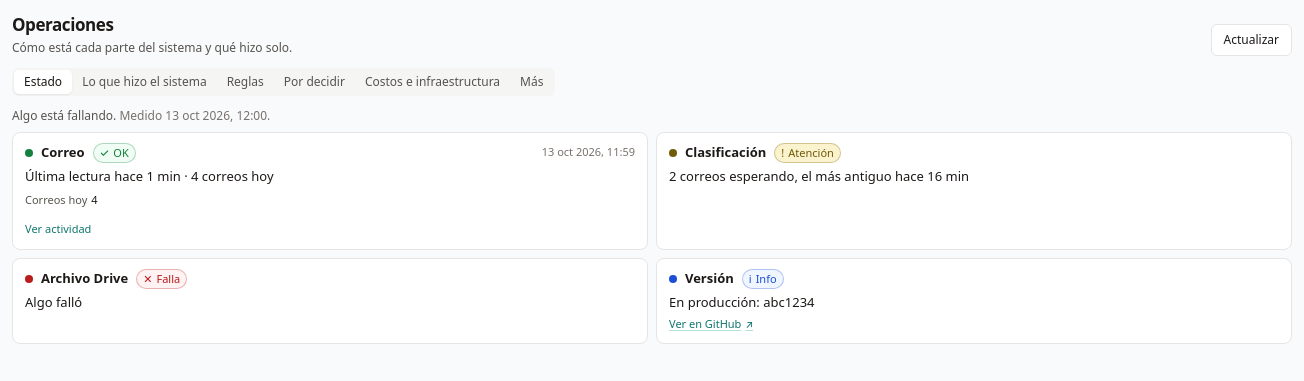
Scenario: Operaciones › shows each card with its state in words, and its activity on demand
Expected: the text "Última lectura hace 1 min · 4 correos hoy" is shown, [25,166,274,184]
Expected: the element with test id "ops-card-correo" shows "OK", [113,144,129,160]
Click the button with aria-label "Ver actividad de Correo". click: (58, 229)
box: [25,220,91,237]
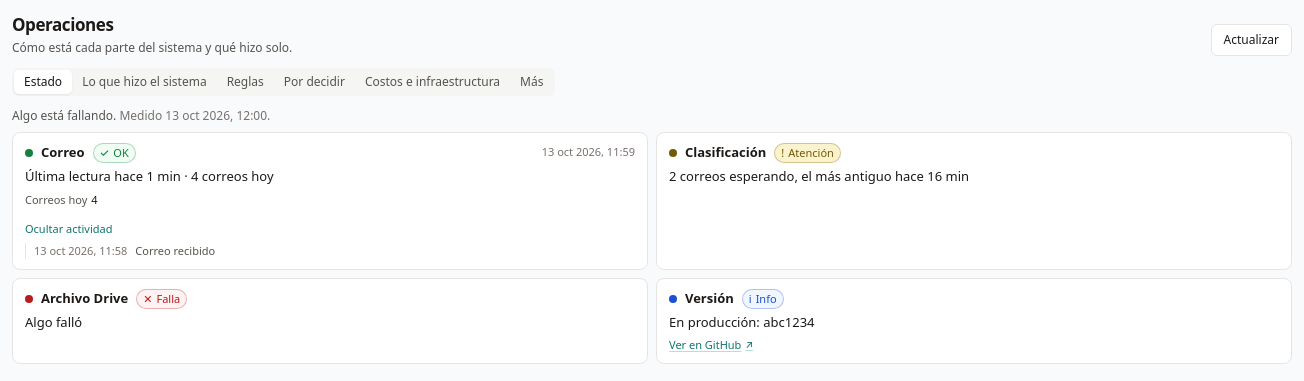
Expected: the text "Correo recibido" is shown, [135,242,215,259]
